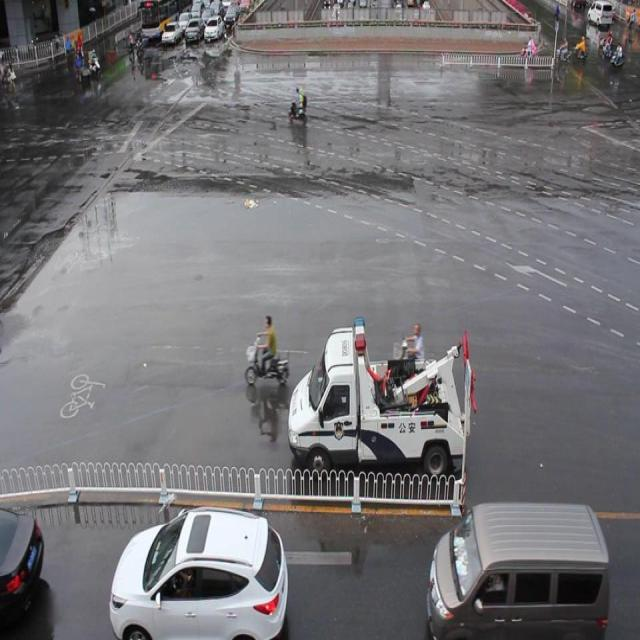bus: (289, 308, 475, 475)
car: (108, 503, 288, 640), (0, 503, 44, 640)
truck: (426, 501, 610, 640)
